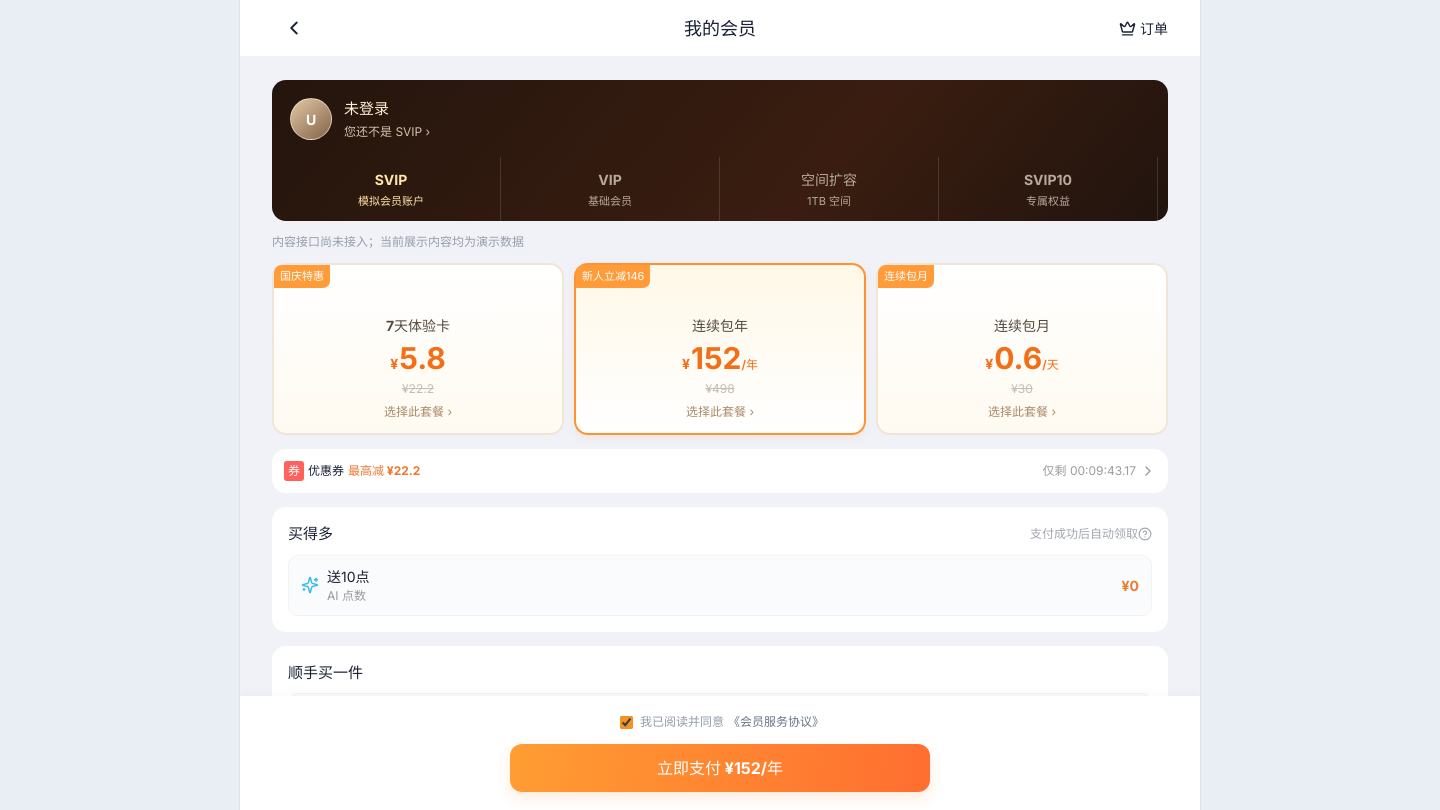
mobile membership page › selects a membership plan and never pretends to process real payment
Check: the text with class "demo-inline" shows "演示数据", box [272, 234, 524, 249]
Click the button "国庆特惠 7天体验卡 ¥5.8 ¥22.2 选择此套餐 ›". click: [418, 349]
box: [272, 263, 564, 435]
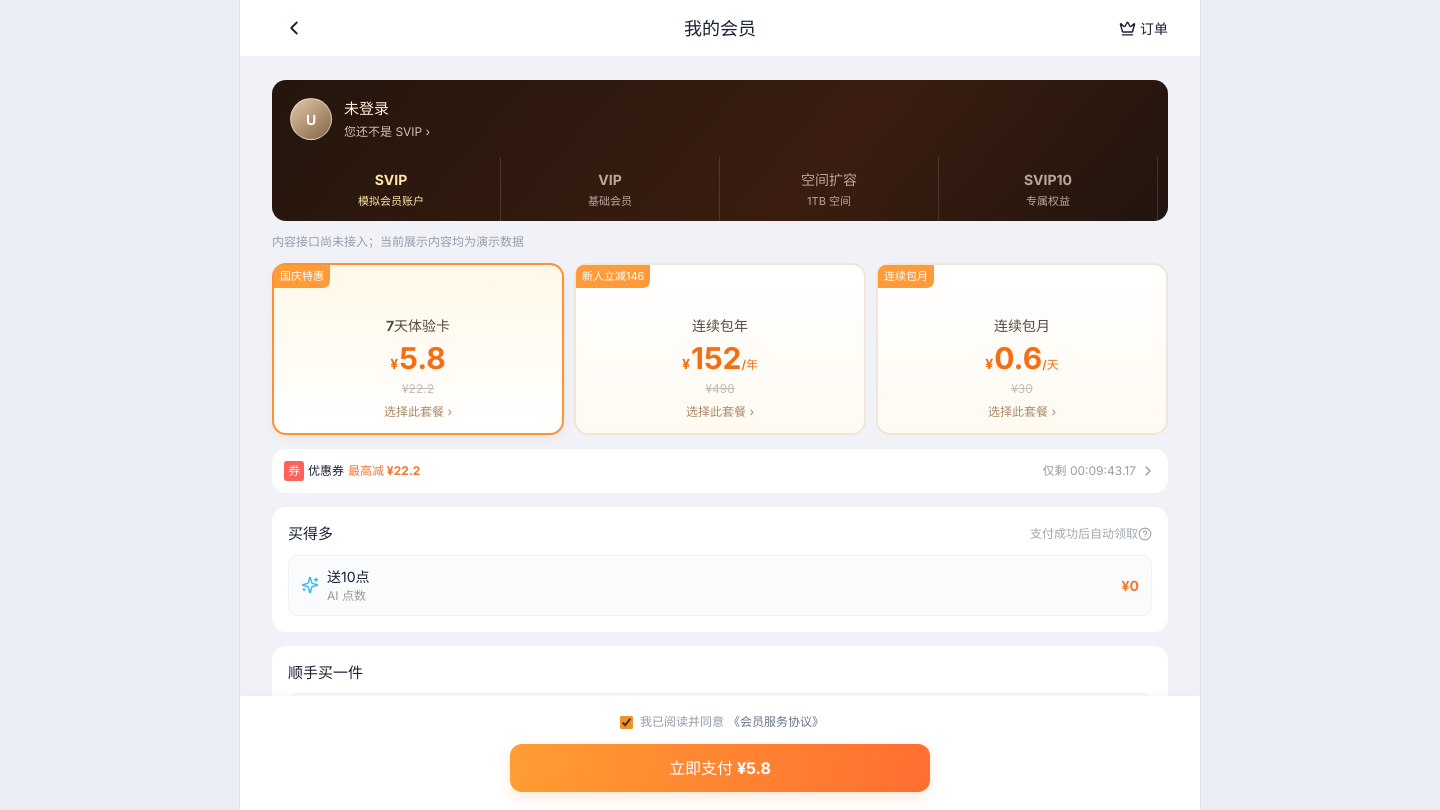
Check: the button "国庆特惠 7天体验卡 ¥5.8 ¥22.2 选择此套餐 ›" is pressed, box [272, 263, 564, 435]
Click the button "立即支付 ¥5.8". click: [720, 768]
box: [510, 744, 930, 792]
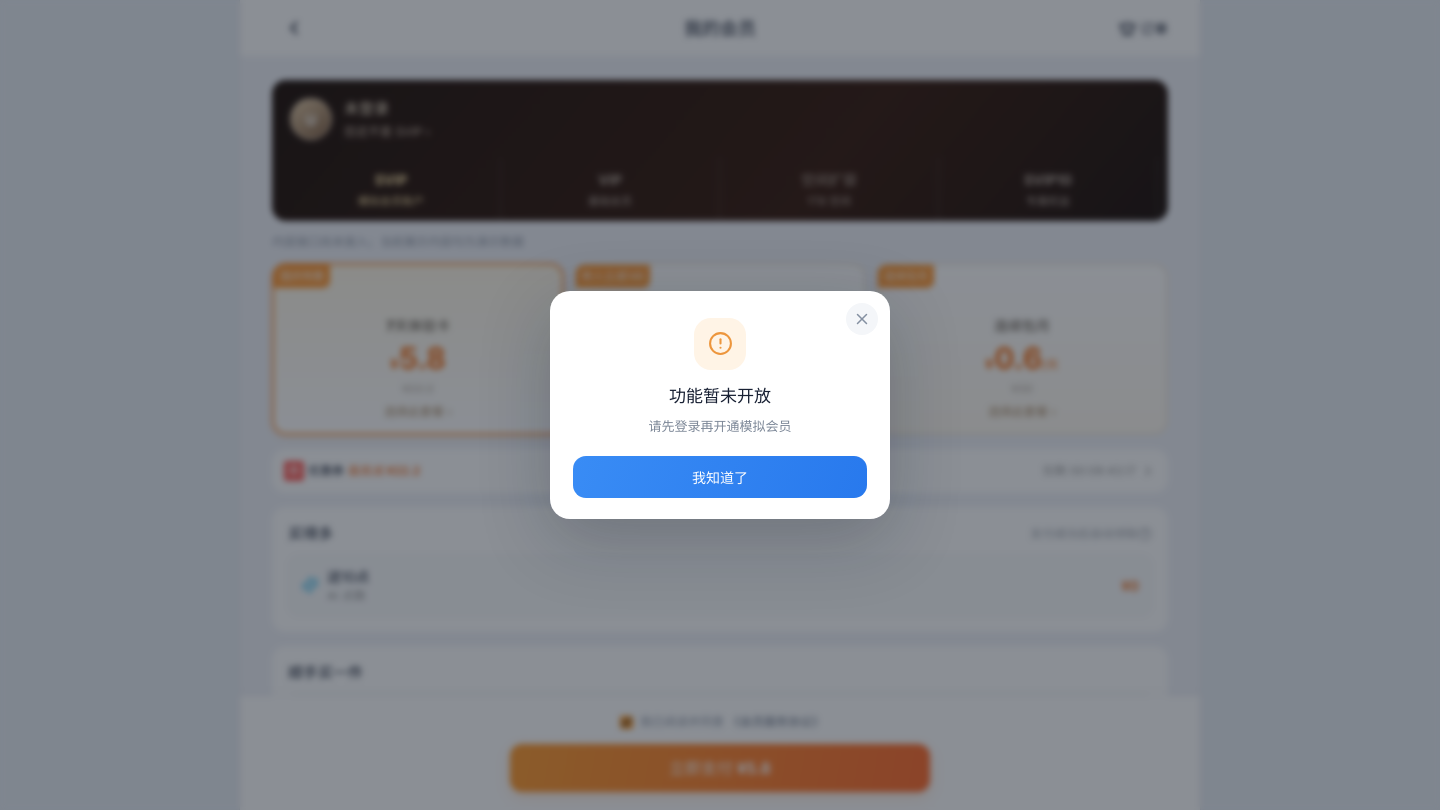
Check: the dialog with class "unavailable-dialog" shows "请先登录再开通模拟会员", box [648, 418, 792, 434]
